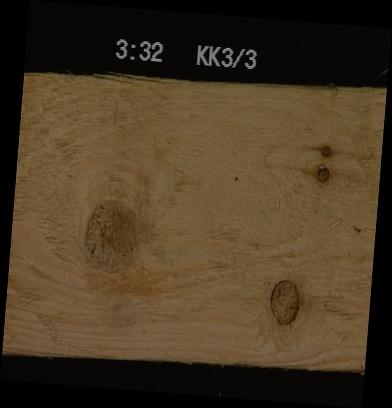dry_knot: (268, 277, 299, 325)
sound_knot: (82, 196, 144, 273)
split: (90, 75, 204, 89)
